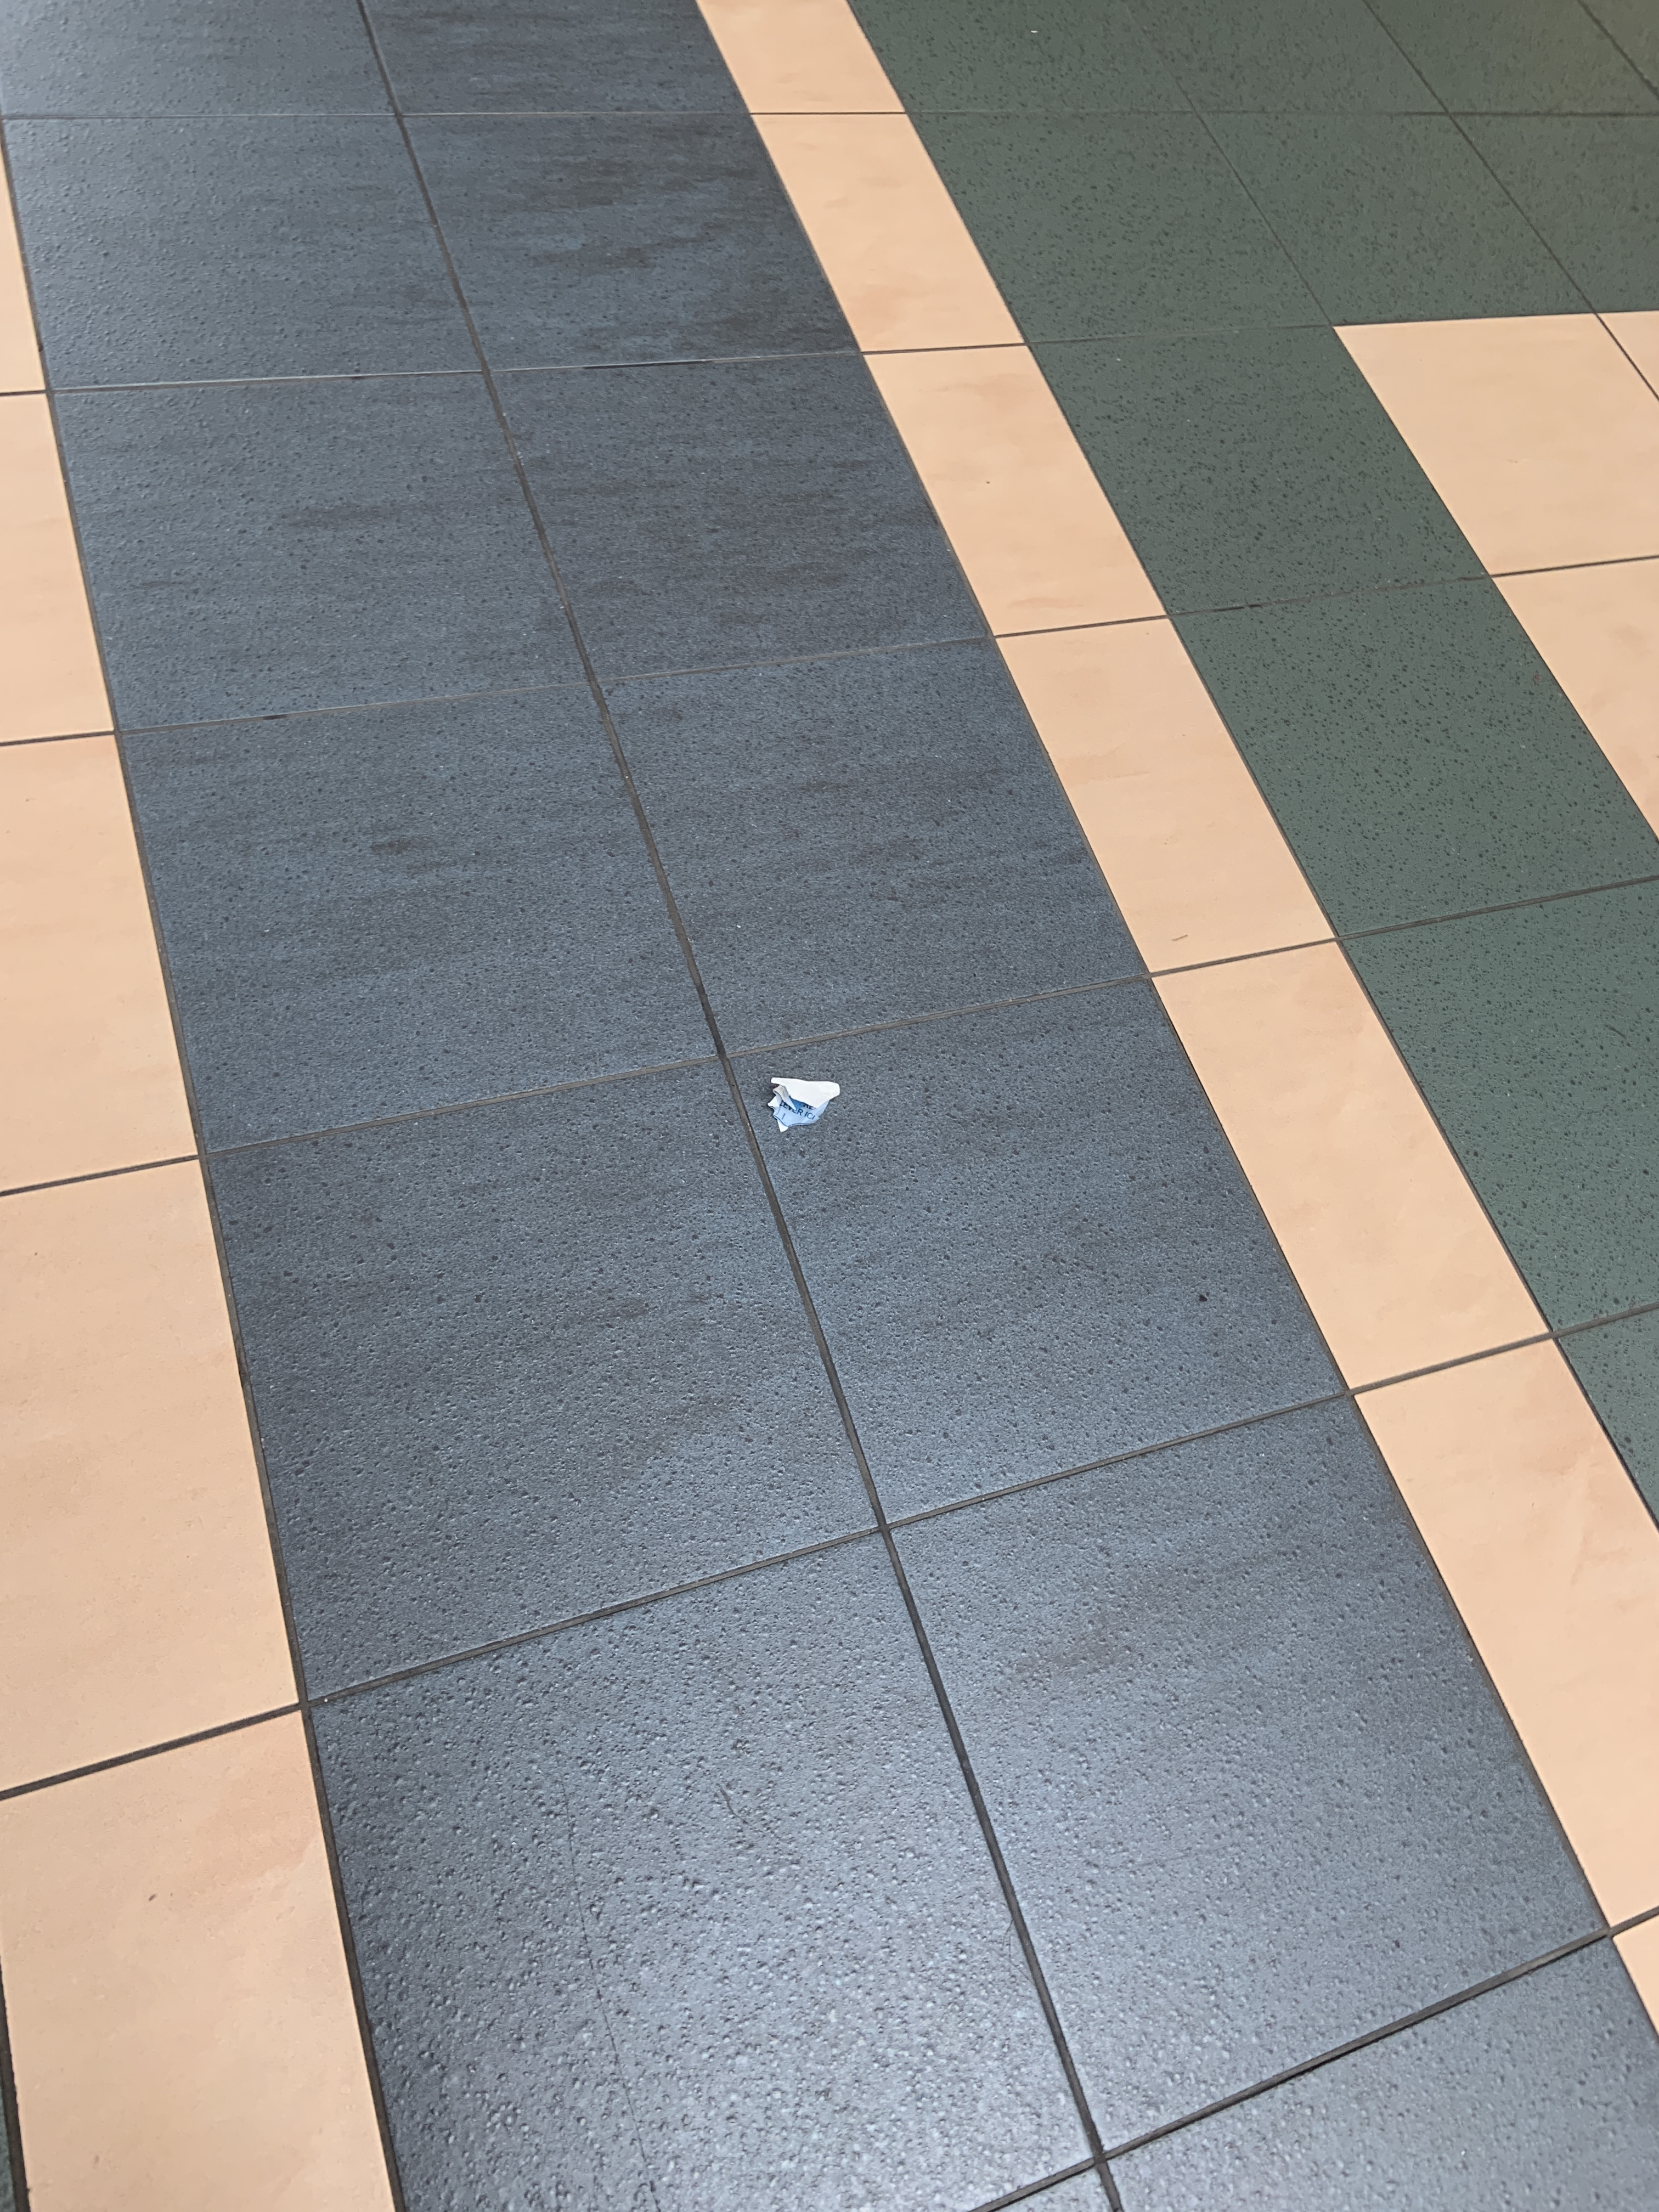Garbage: (751, 1047, 875, 1162)
